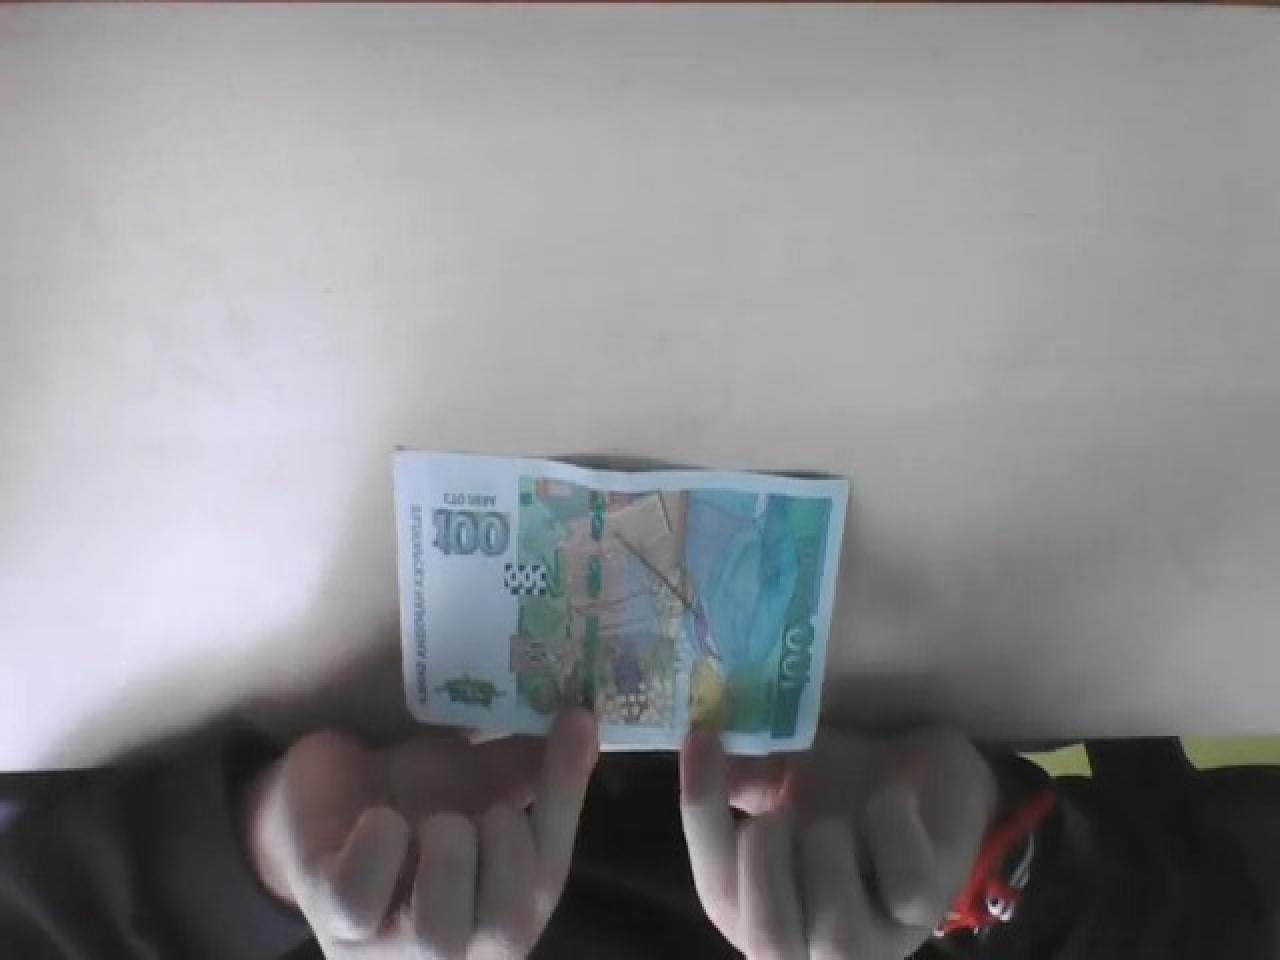100leva: (392, 448, 848, 749)
